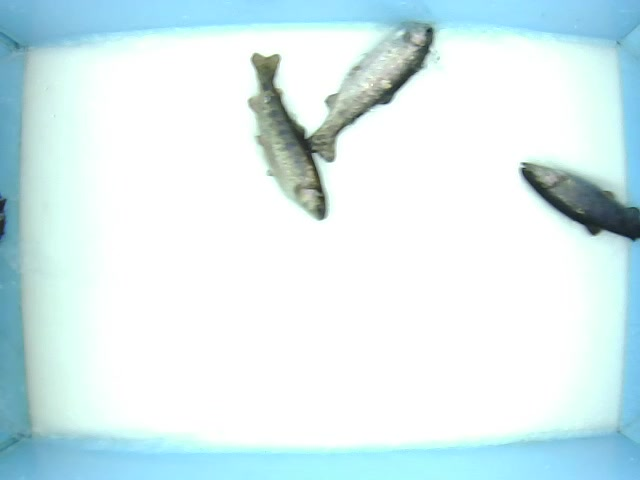fish: (314, 27, 442, 160), (244, 45, 322, 233), (499, 152, 640, 250)
